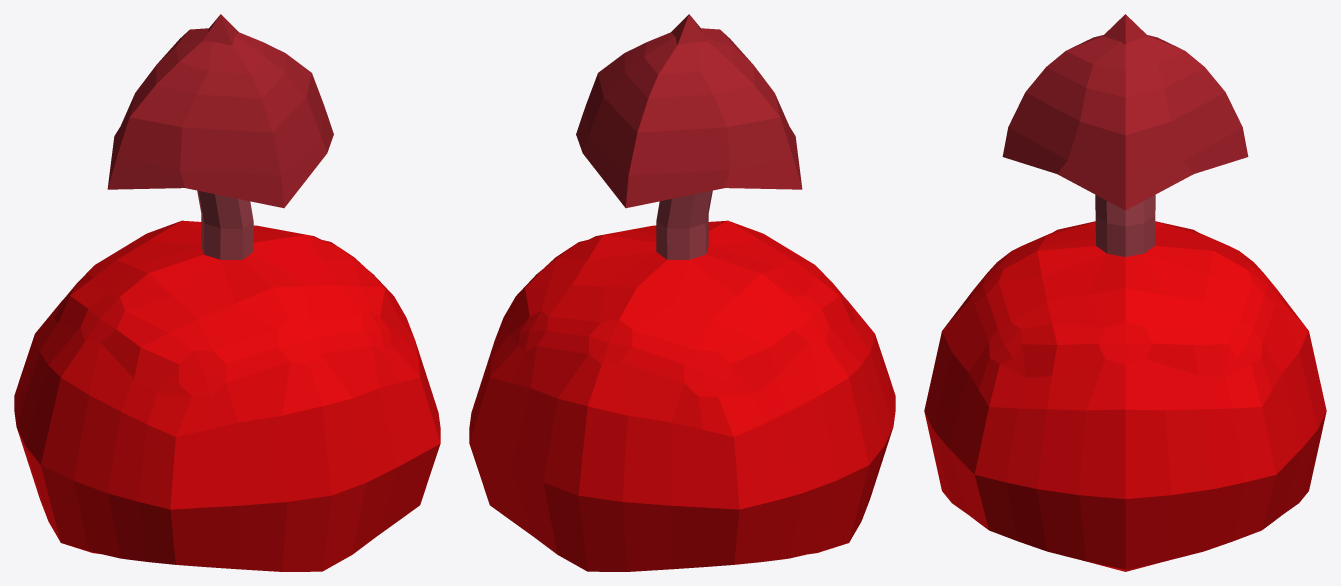
File: Slime_Teste2.fbx
The picture shows the model from 3 angles, left to right: view 1: azimuth 30°, elevation 25°; view 2: azimuth 150°, elevation 25°; view 3: azimuth 270°, elevation 25°; orthographic projection. The views are drawn at different scales.
Visible parts, largest first — view 1: Cubo.001; view 2: Cubo.001; view 3: Cubo.001.
Part boxes in pixels (x1,y1,x2,y2): Cubo.001: (14, 14, 440, 571); Cubo.001: (469, 14, 895, 571); Cubo.001: (924, 14, 1326, 571).
Size of the model in its own units: 228 by 296 by 220.
